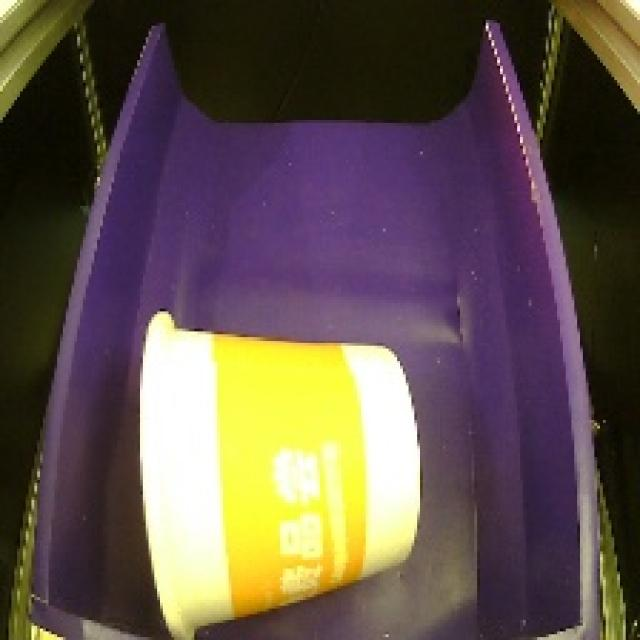cups: (113, 297, 434, 640)
